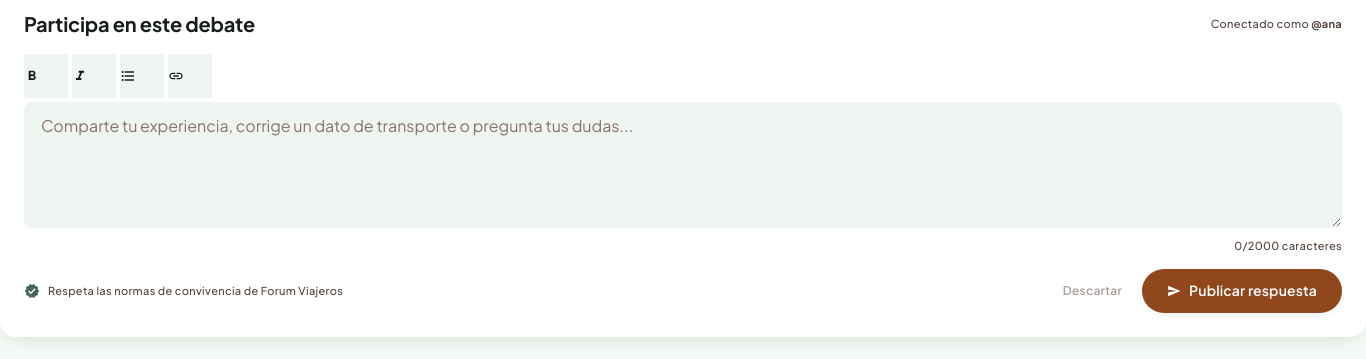
CommentForm › inserts markdown markers from the toolbar
This screenshot has width=1366, height=359.
Click the button named "Negrita". click: coordinates (46, 76)
box: top-left (24, 54), bottom-right (68, 98)
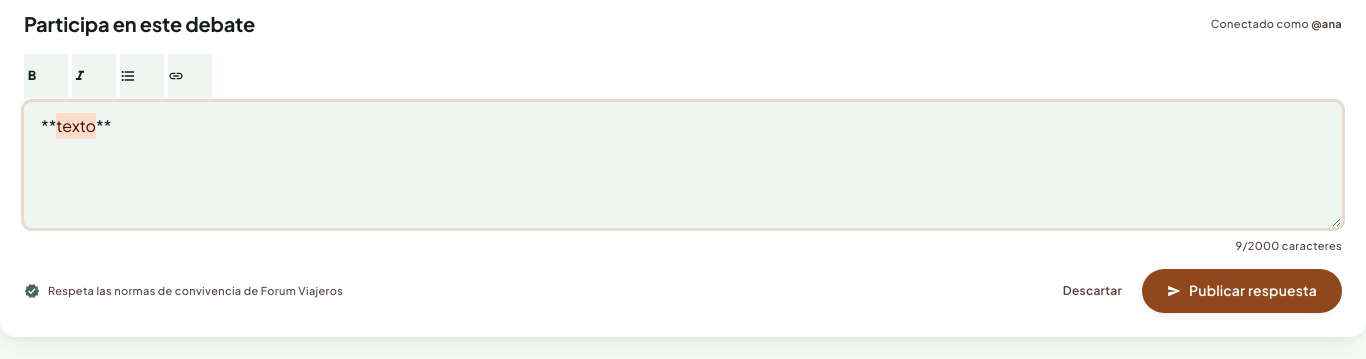
Now the text box named "Escribe un comentario..." holds "**texto**", box top-left (24, 102), bottom-right (1342, 228)
